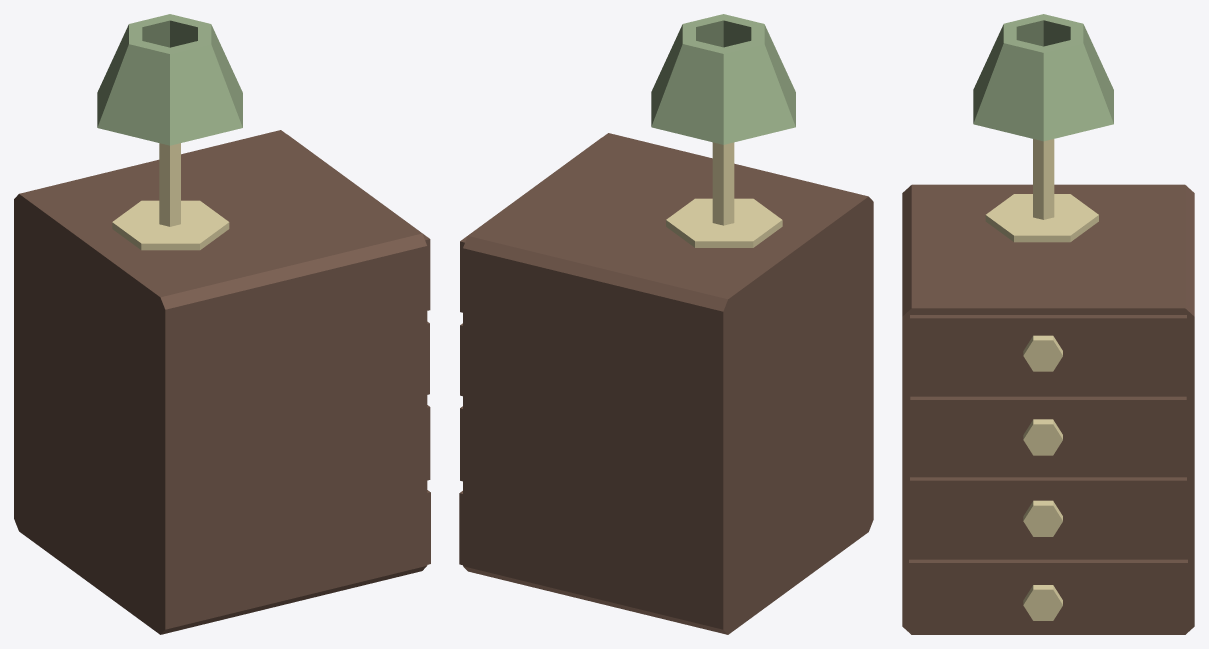
Rendered from geo_bedsideTable_02.fbx.
3 renders of one model, left to right at view 1: azimuth 30°, elevation 25°; view 2: azimuth 150°, elevation 25°; view 3: azimuth 270°, elevation 25°, orthographic. The views are drawn at different scales.
Visible parts, largest first — view 1: geo_bedsidetable_01, geo_lampShade_01, geo_lampbase_01, geo_lampPole_01; view 2: geo_bedsidetable_01, geo_lampShade_01, geo_lampbase_01, geo_lampPole_01; view 3: geo_bedsidetable_01, geo_lampShade_01, geo_lampbase_01, geo_lampPole_01, geo_tabledrawhandle_02, geo_tabledrawhandle_01, geo_tabledrawhandle_03, geo_tabledrawhandle_04.
Boxes of the visible parts, x1=… form: geo_bedsidetable_01: x1=14, y1=130, x2=430, y2=634; geo_lampShade_01: x1=97, y1=14, x2=242, y2=145; geo_lampbase_01: x1=112, y1=200, x2=229, y2=250; geo_lampPole_01: x1=159, y1=143, x2=180, y2=226; geo_bedsidetable_01: x1=459, y1=133, x2=873, y2=634; geo_lampShade_01: x1=651, y1=14, x2=795, y2=144; geo_lampbase_01: x1=666, y1=198, x2=782, y2=247; geo_lampPole_01: x1=712, y1=142, x2=734, y2=225; geo_bedsidetable_01: x1=902, y1=184, x2=1194, y2=634; geo_lampShade_01: x1=973, y1=14, x2=1113, y2=141; geo_lampbase_01: x1=985, y1=194, x2=1098, y2=242; geo_lampPole_01: x1=1033, y1=139, x2=1054, y2=219; geo_tabledrawhandle_02: x1=1023, y1=335, x2=1062, y2=371; geo_tabledrawhandle_01: x1=1023, y1=419, x2=1062, y2=455; geo_tabledrawhandle_03: x1=1023, y1=500, x2=1062, y2=536; geo_tabledrawhandle_04: x1=1023, y1=585, x2=1062, y2=620.
Size of the model in its own units: 42.79 by 77.91 by 40.14.
